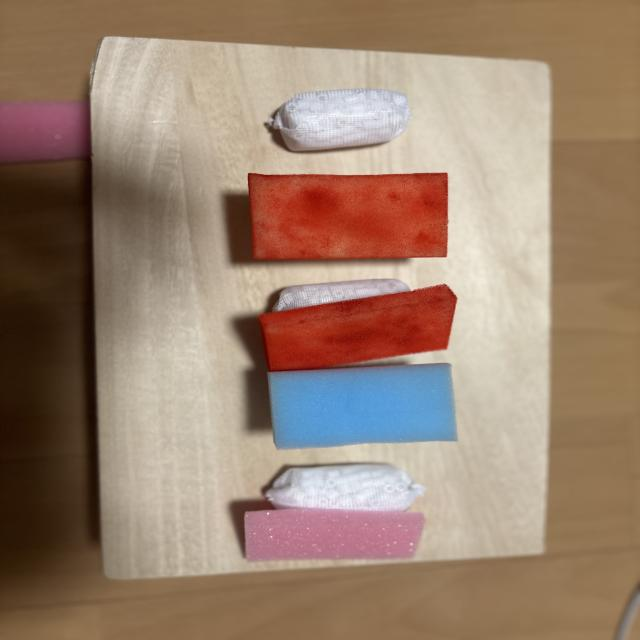NG: (259, 279, 457, 371), (270, 89, 410, 151)
ika: (268, 363, 457, 449)
salmon: (248, 173, 448, 259)
tai: (245, 464, 424, 561)
